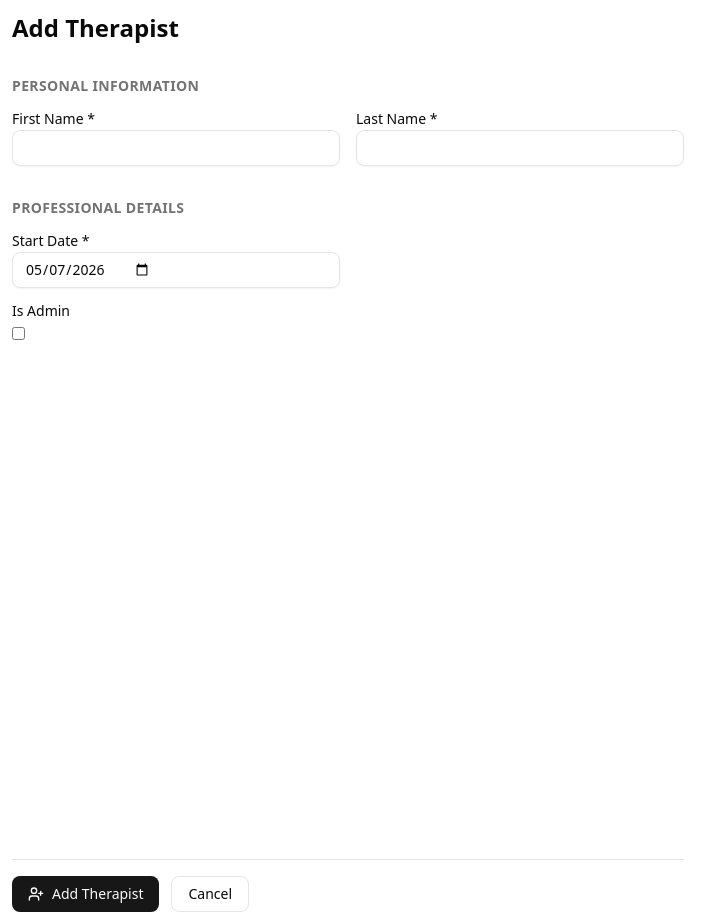
Test case: TherapistFormPage — new therapist › shows required field errors on empty submit
Step 1. Click the button "Add Therapist" → (86, 894), box [12, 876, 160, 911]
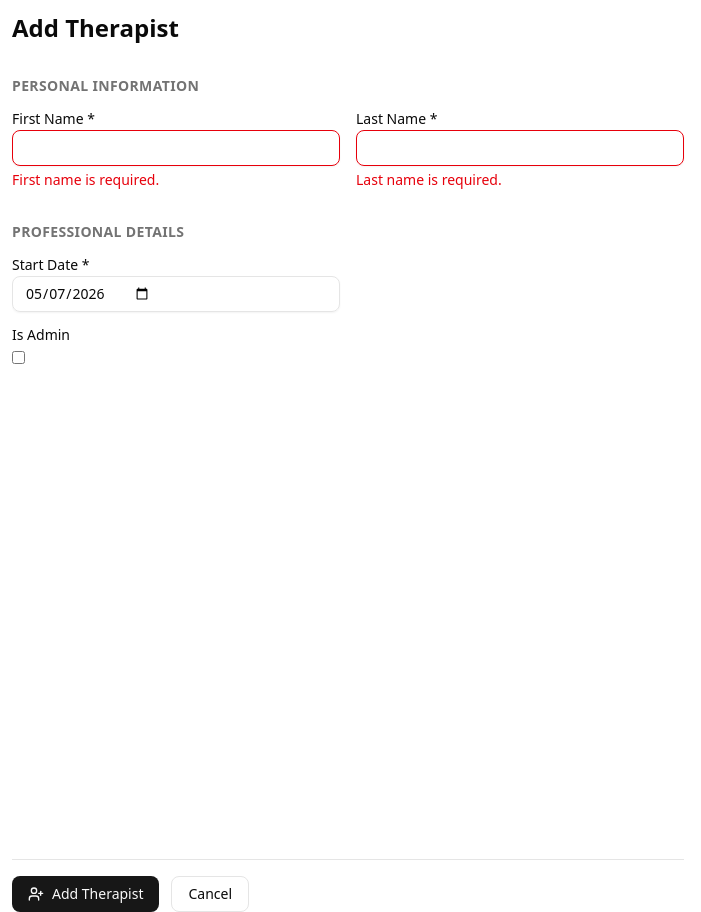
Expected: the text "First name is required." is shown, [12, 170, 159, 189]
Expected: the text "Last name is required." is shown, [356, 170, 502, 189]
